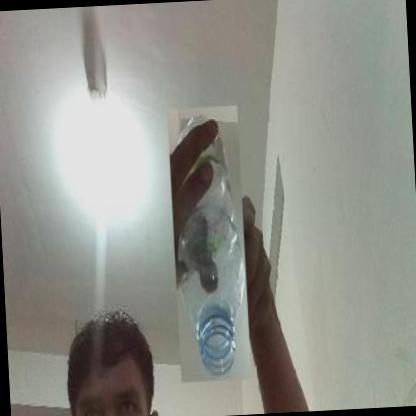plastic_bottles: (167, 105, 251, 382)
